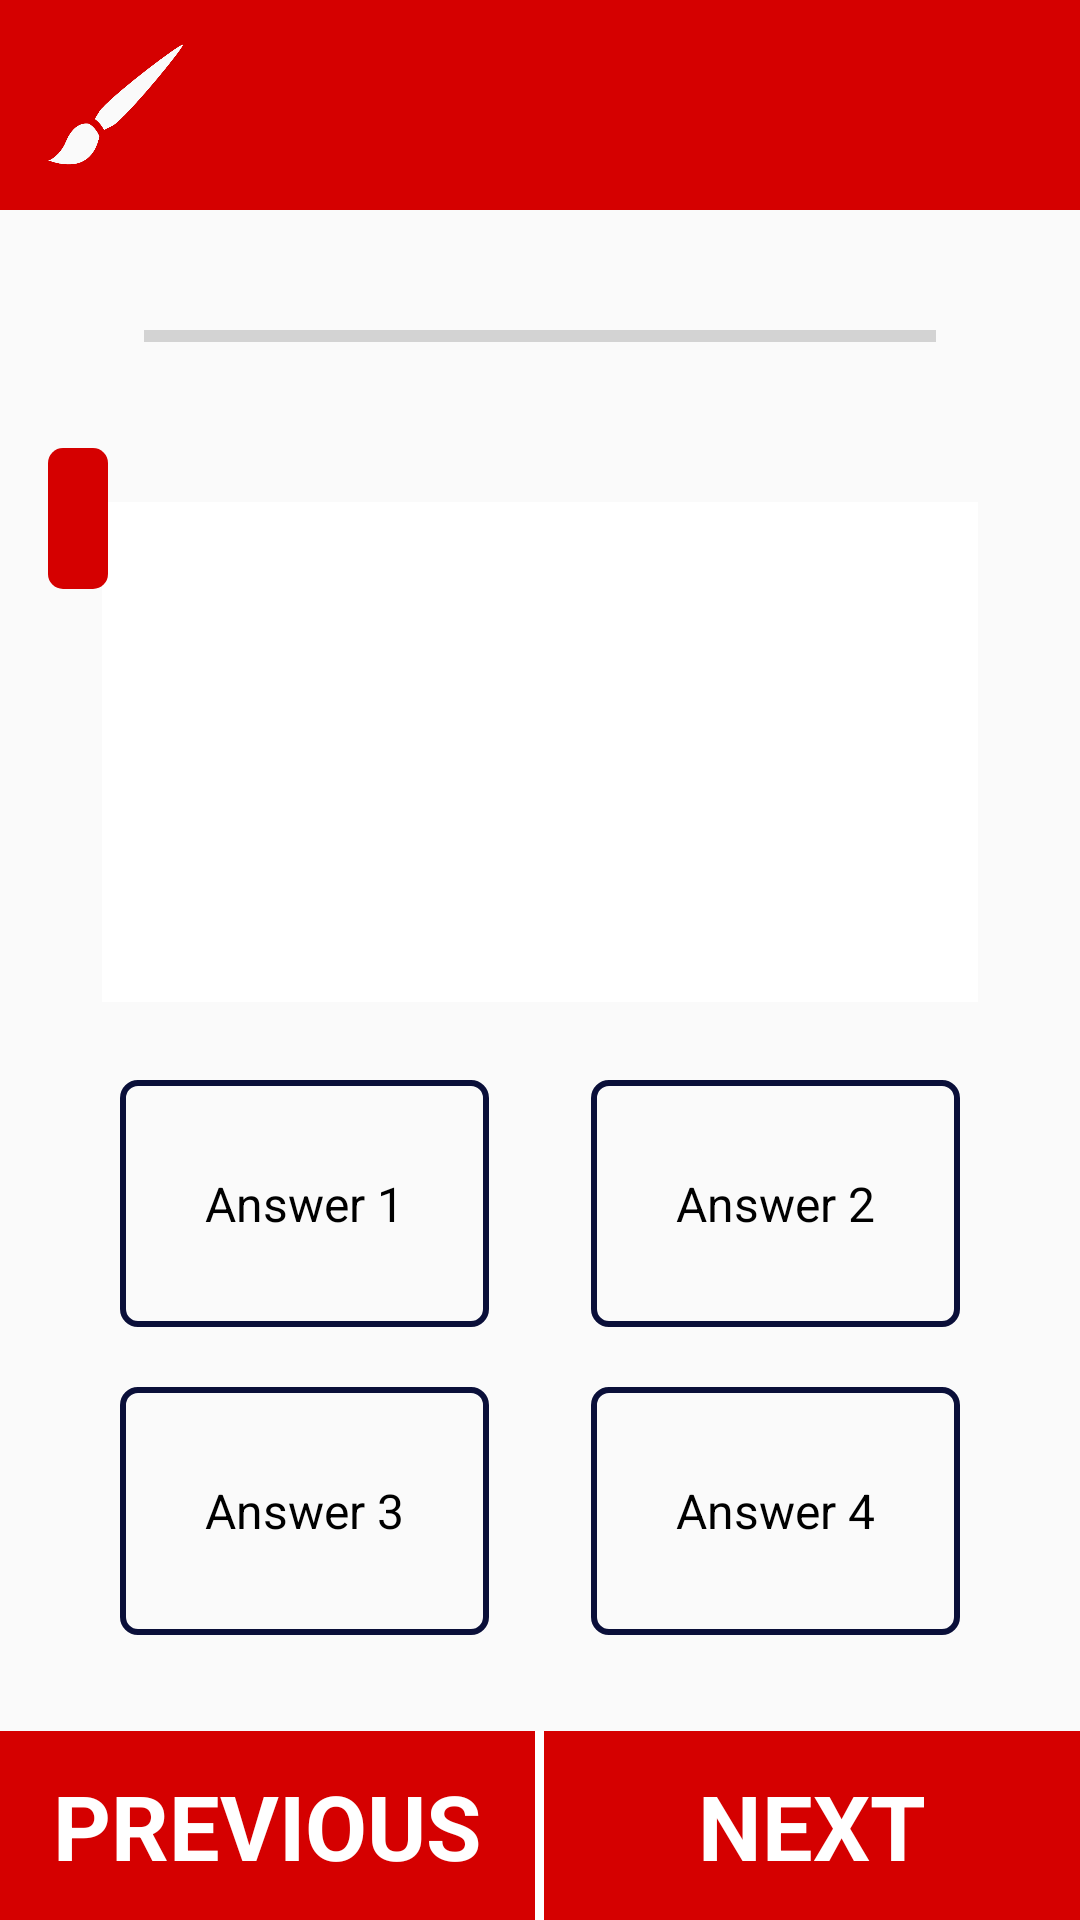

Icons on this 1080px x 1920px Android screen, each with its box as (x1, y1, x2, y2):
arts: (48, 44, 183, 165)
